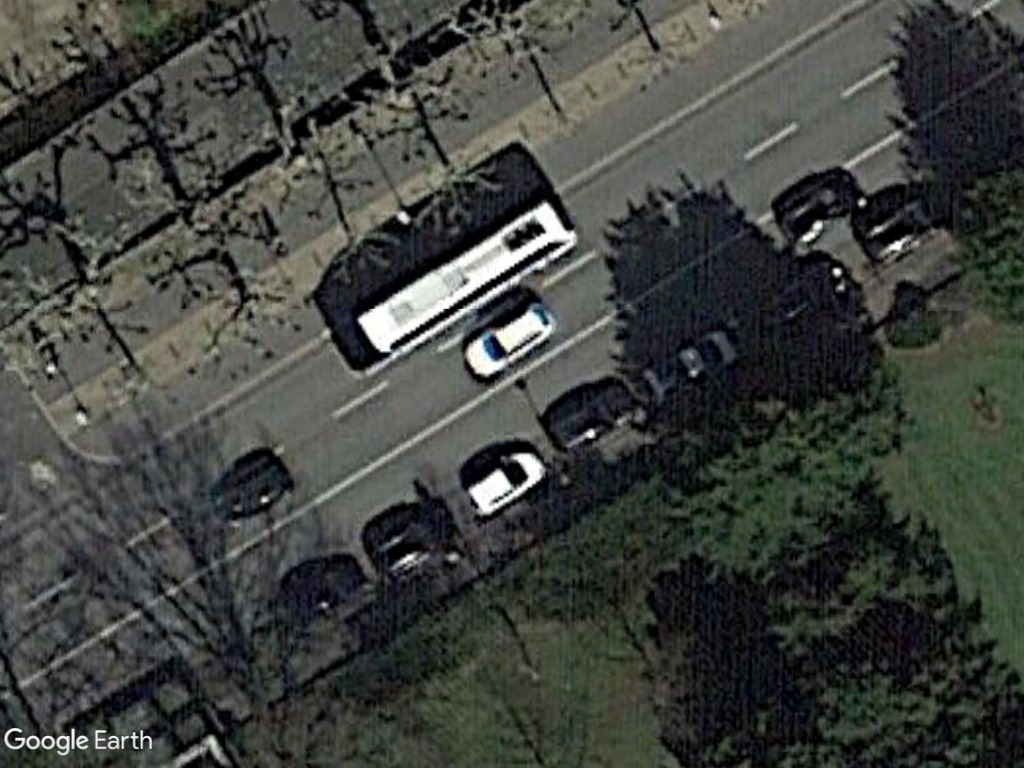bus: (353, 193, 583, 362)
car: (462, 298, 557, 380), (461, 449, 545, 520)
